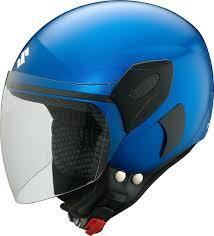helmet: (1, 0, 213, 235)
